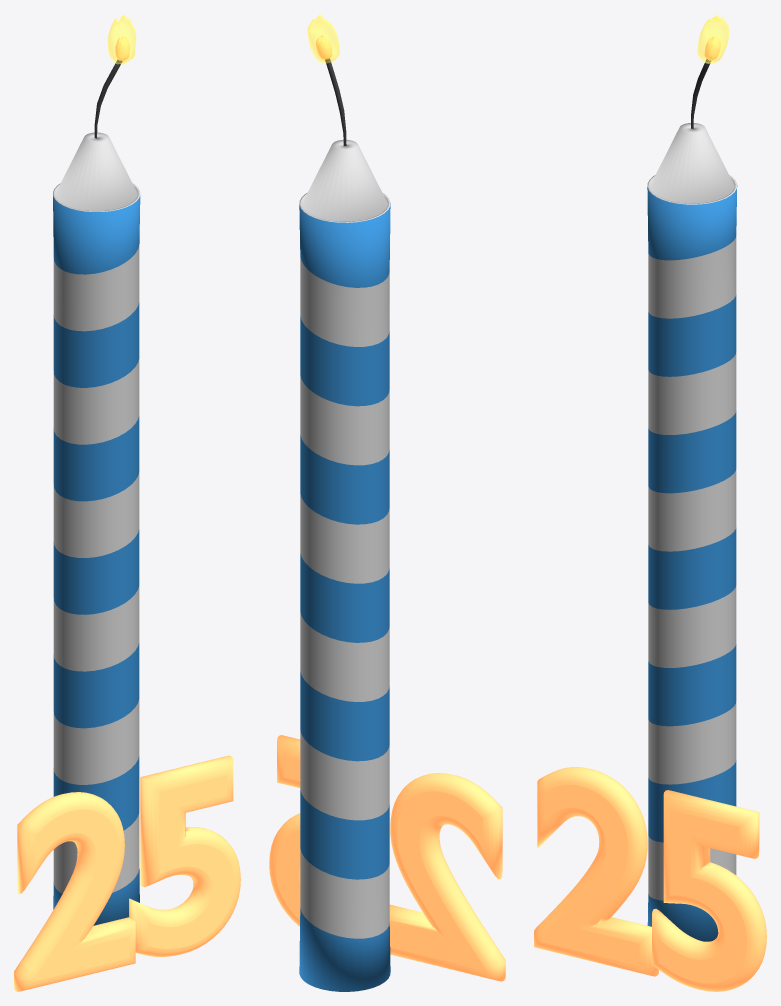
Rendered from candle.glb.
3 views of the same model, side by side, from view 1: azimuth 30°, elevation 25°; view 2: azimuth 150°, elevation 25°; view 3: azimuth 330°, elevation 25° (orthographic). The views are drawn at different scales.
Parts seen in each view (by area): view 1: Cylinder, Text; view 2: Cylinder, Text; view 3: Cylinder, Text.
Boxes of the visible parts, left/top/right/bottom form: Cylinder: left=53, top=14, right=140, bottom=925; Text: left=14, top=755, right=240, bottom=991; Cylinder: left=299, top=14, right=390, bottom=991; Text: left=269, top=735, right=505, bottom=981; Cylinder: left=647, top=14, right=737, bottom=941; Text: left=534, top=767, right=766, bottom=991.
Size of the model in its own units: 2.01 by 7.89 by 0.9979.
